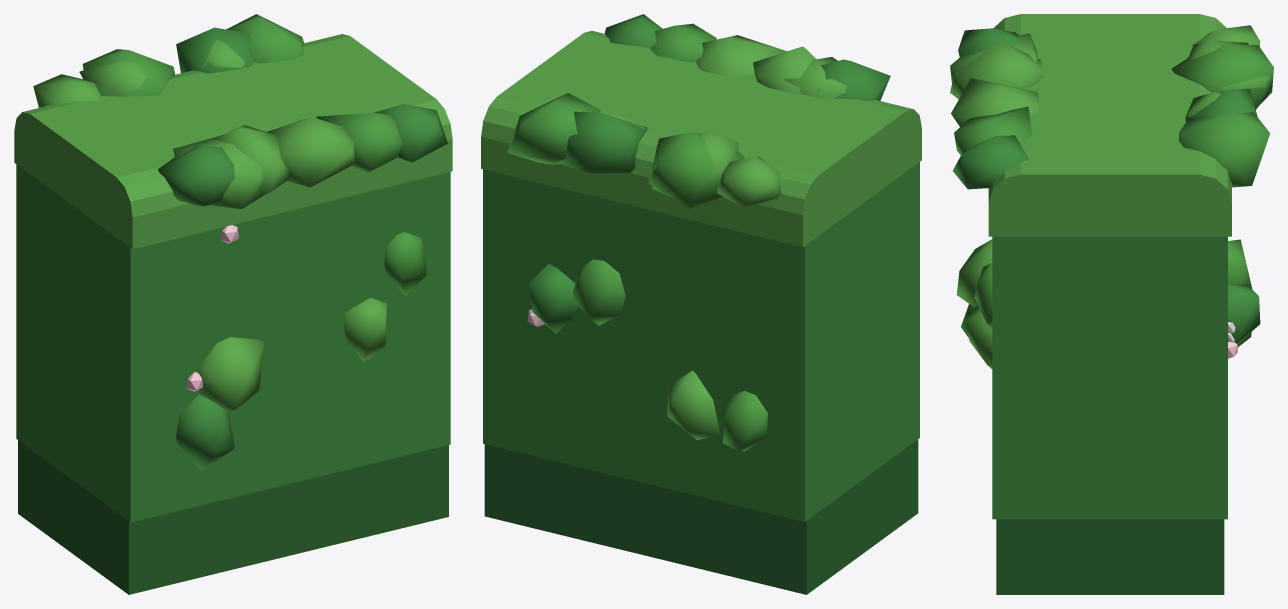
The model's file is hedge.glb.
3 views of the same model, side by side, from view 1: azimuth 30°, elevation 25°; view 2: azimuth 150°, elevation 25°; view 3: azimuth 270°, elevation 25° (orthographic). The views are drawn at different scales.
Visible parts, largest first — view 1: hedge; view 2: hedge; view 3: hedge.
Boxes of the visible parts, x1,y1,x2,y2 form: hedge: (14, 14, 452, 594); hedge: (481, 14, 921, 594); hedge: (950, 14, 1273, 594).
Bounding box in the file's own units: 1 × 1.31 × 0.8523.
